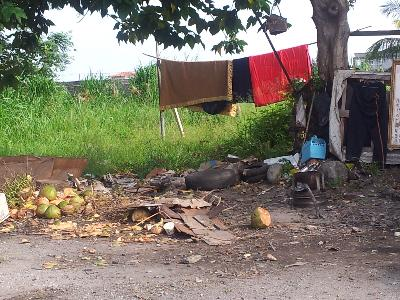bowl: (186, 168, 236, 192)
tire: (240, 162, 268, 175)
